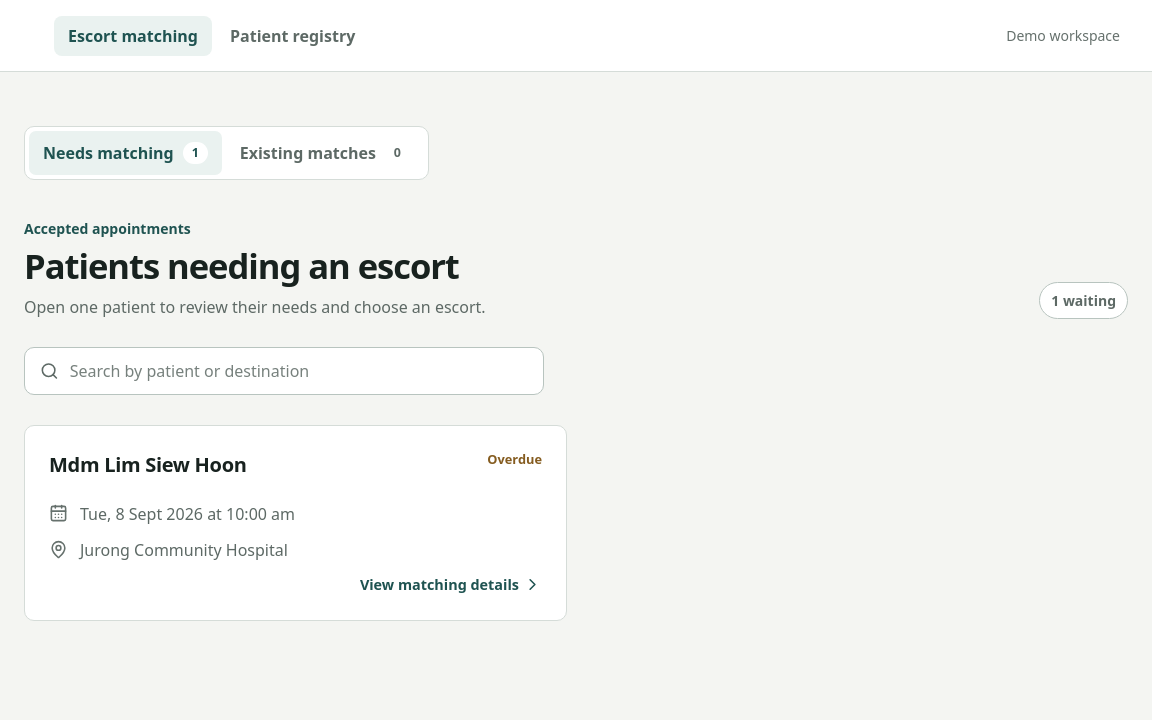
Test: MatchingWorkspace › shows quiet patient modules before revealing matching details
Expected: the text "Hokkien" is not shown
Click the button "Mdm Lim Siew Hoon" at x=296, y=523, box [24,425,567,621]
(page scrolled)
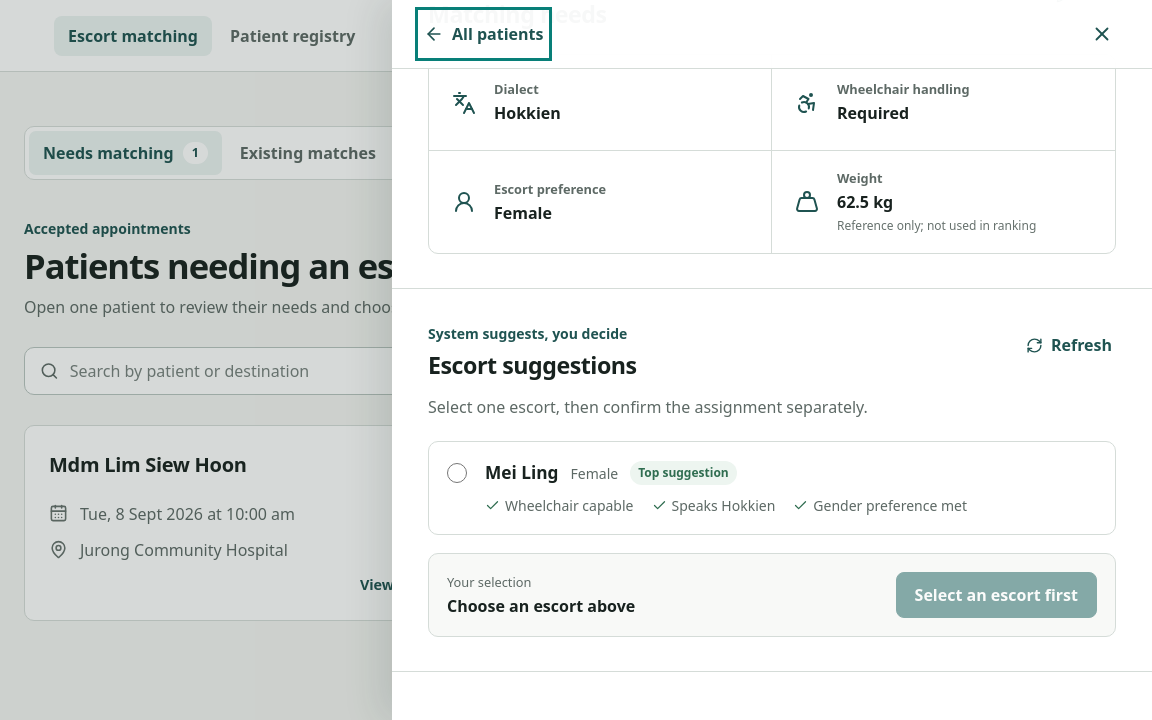
Expected: the text "Hokkien" is shown, [494,102,561,124]
Expected: the text "Speaks Hokkien" is shown, [652,495,775,516]
